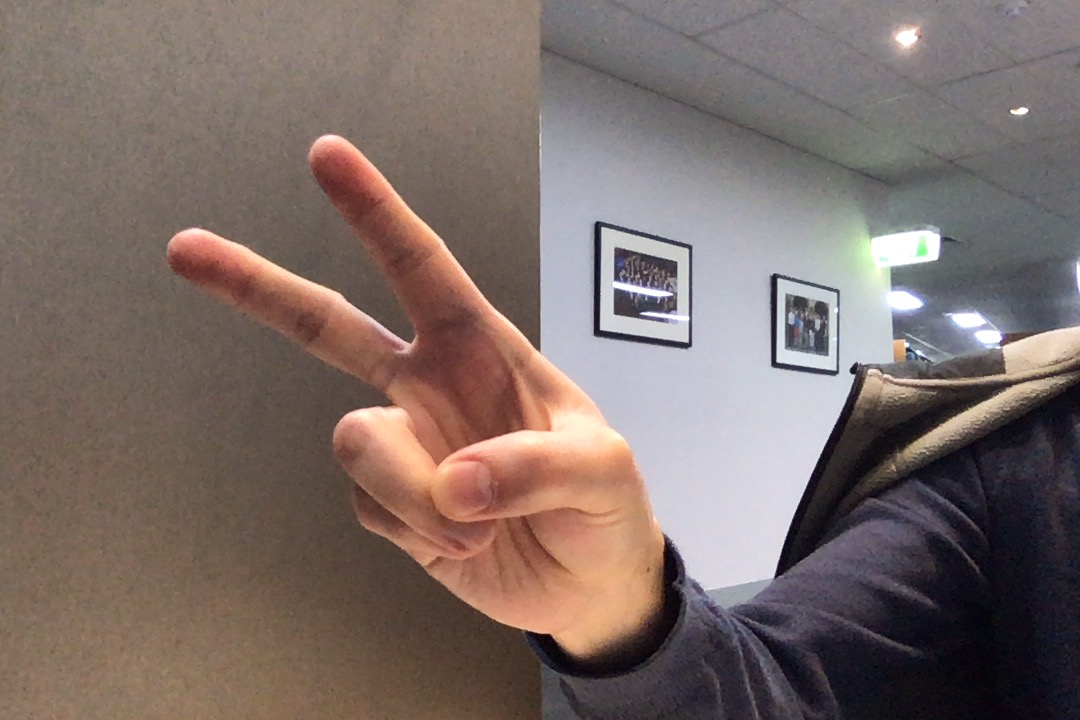peacesign: (154, 116, 654, 650)
